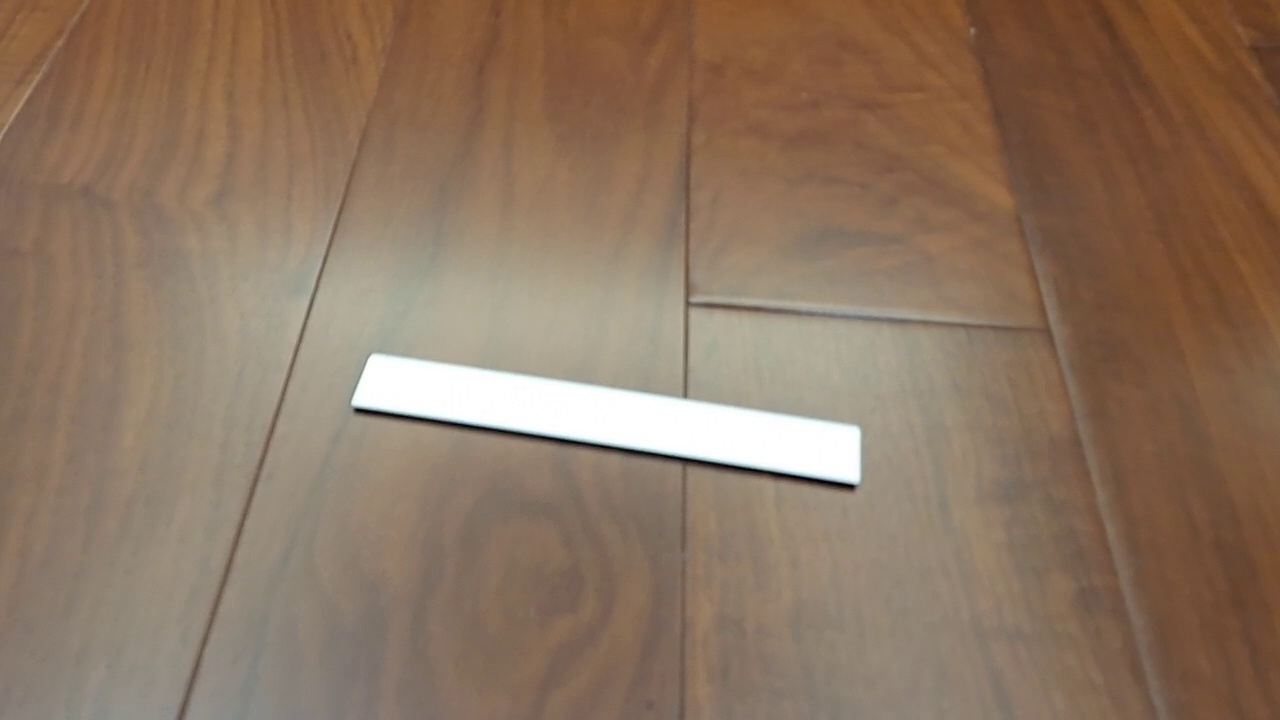ruler: (349, 351, 862, 486)
